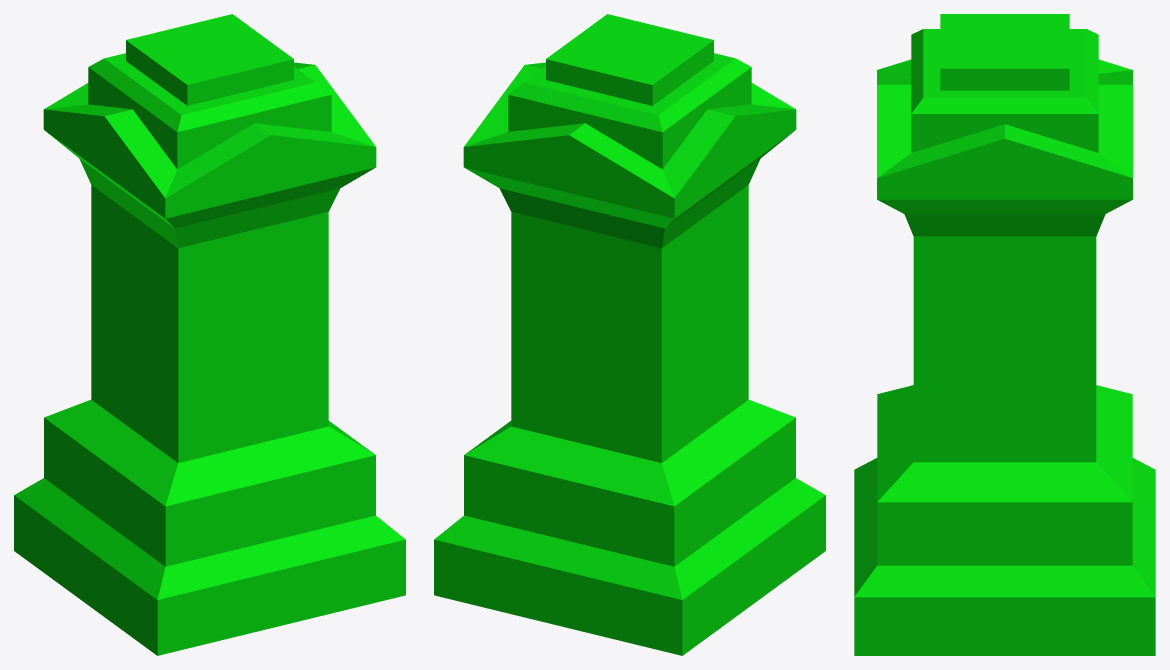
The model's file is green_pillar.glb.
The picture shows the model from 3 angles, left to right: view 1: azimuth 30°, elevation 25°; view 2: azimuth 150°, elevation 25°; view 3: azimuth 270°, elevation 25°; orthographic projection. The views are drawn at different scales.
Visible parts, largest first — view 1: Obelisk2; view 2: Obelisk2; view 3: Obelisk2.
Boxes of the visible parts, x1,y1,x2,y2 form: Obelisk2: (14, 14, 405, 655); Obelisk2: (434, 14, 825, 655); Obelisk2: (854, 14, 1155, 655).
Size of what is drawn, in the model's own units: 2.02 by 4.08 by 2.02.
